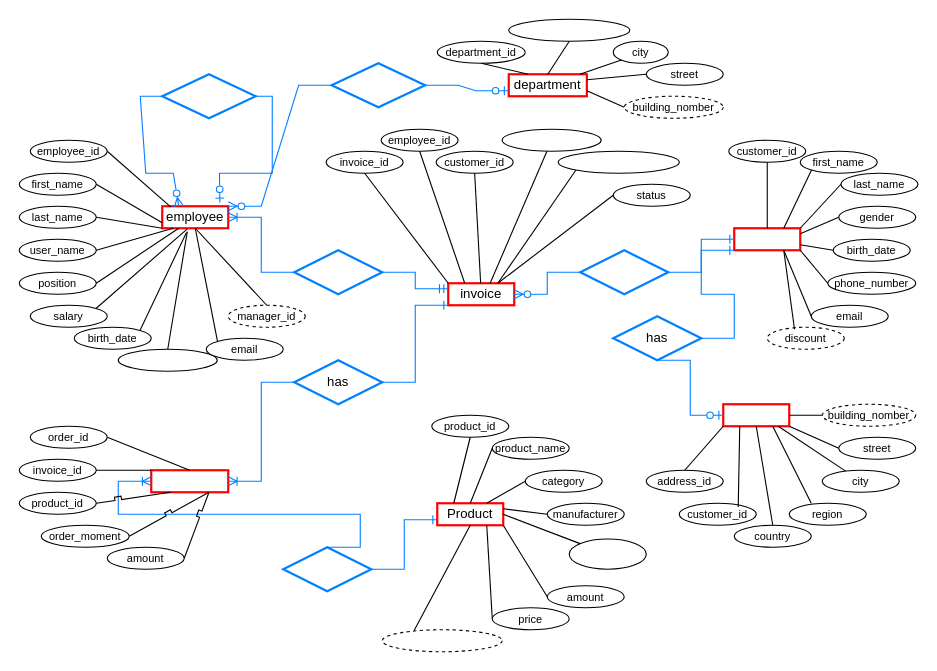
Image size: 937x671. Some labels were removed from this diagram. Each missing label, with the box of its shape:
Address: (722, 403, 790, 427)
by: (579, 249, 669, 295)
contains: (282, 546, 372, 592)
Customer: (733, 227, 801, 251)
department_name: (508, 18, 630, 41)
employment_date: (117, 348, 217, 371)
manages: (161, 73, 256, 119)
Order: (150, 469, 229, 493)
payment_method: (501, 128, 601, 151)
product_description: (381, 629, 502, 652)
product_tipe: (568, 538, 646, 569)
transaction_moment: (557, 150, 679, 173)
working out: (293, 249, 383, 295)
works for: (330, 62, 426, 108)
